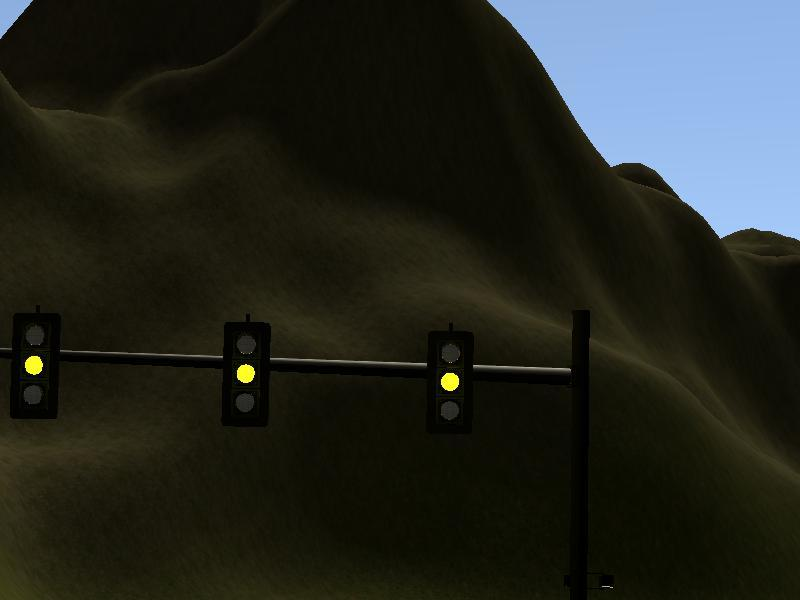Yellow: (221, 322, 272, 428), (10, 313, 60, 421), (425, 331, 474, 433)
